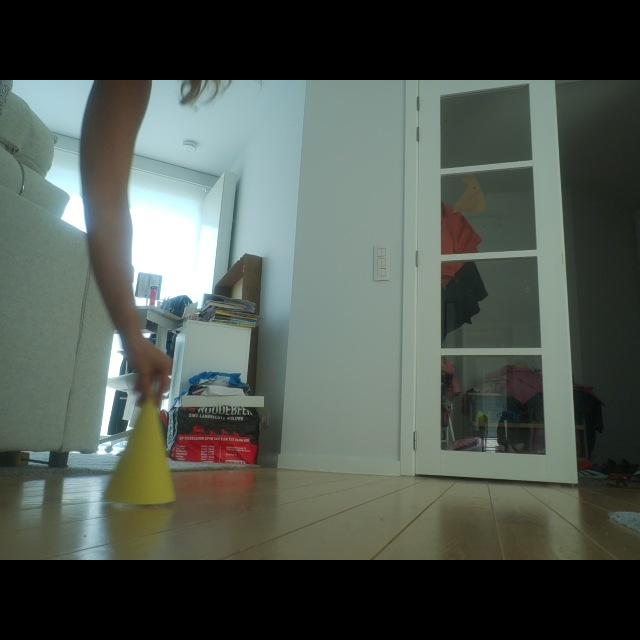bolya: (105, 401, 174, 504)
